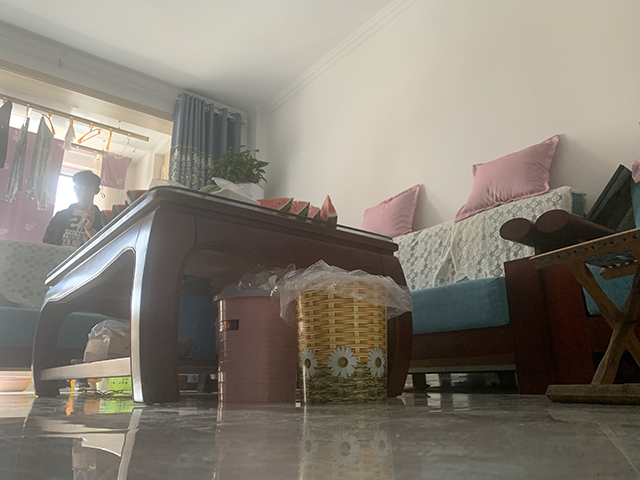sofa: (361, 131, 640, 395)
stool: (529, 227, 640, 405)
table: (30, 184, 413, 405)
trashcan: (297, 267, 389, 404), (210, 284, 299, 405)
wire: (76, 387, 133, 399)
